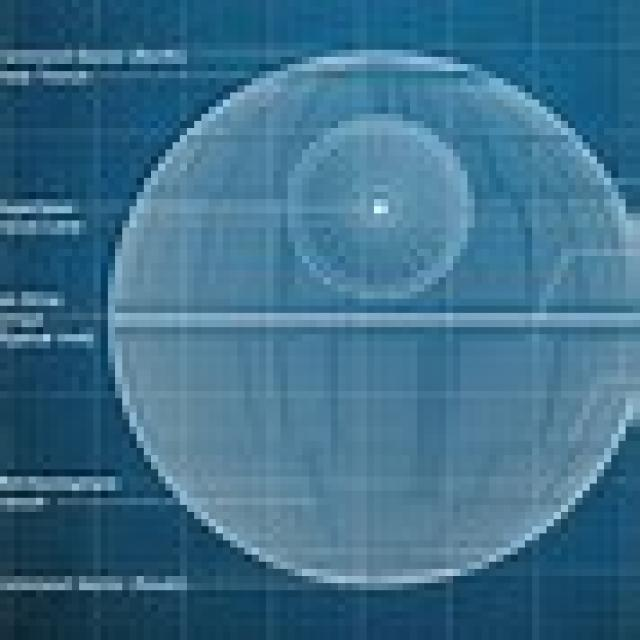Death Star: (93, 43, 633, 590)
